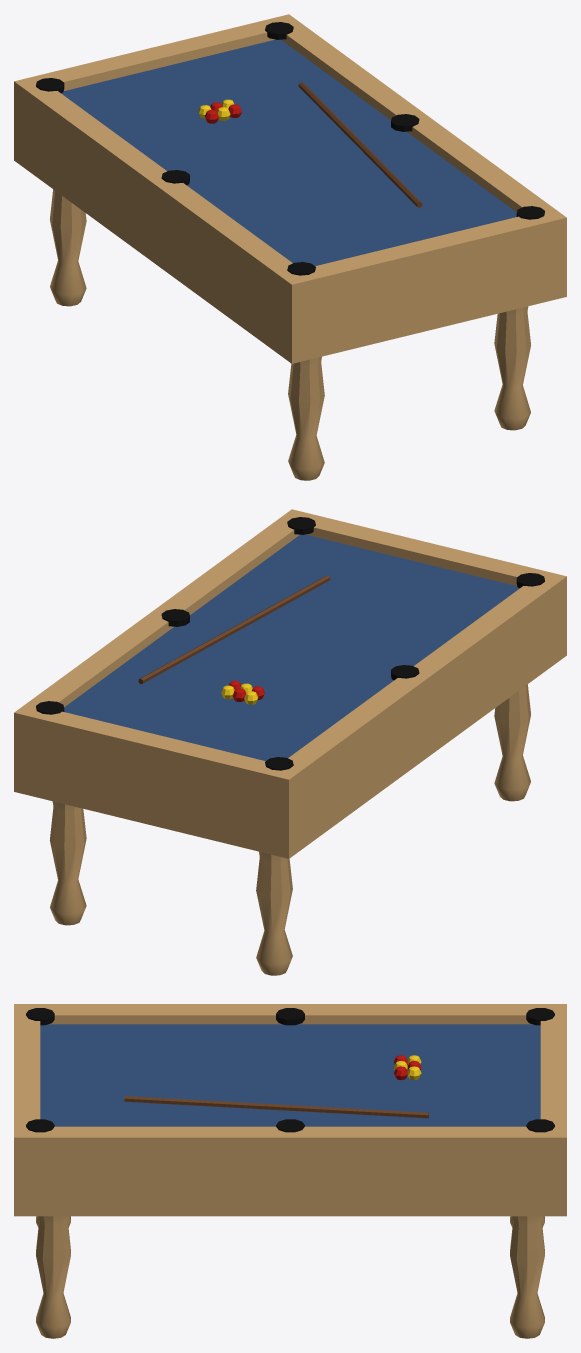
File: hospitality.pub.pool_table.glb
3 renders of one model, top to bottom at view 1: azimuth 30°, elevation 25°; view 2: azimuth 150°, elevation 25°; view 3: azimuth 270°, elevation 25°, orthographic.
Parts seen in each view (by area): view 1: main__glulam, main__fabric_blue, main__plastic_black, main__hardwood; view 2: main__glulam, main__fabric_blue, main__plastic_black, main__hardwood; view 3: main__glulam, main__fabric_blue, main__plastic_black, main__hardwood.
Boxes of the visible parts, x1,y1,x2,y2 form: main__glulam: (14,14,566,480); main__fabric_blue: (61,39,516,265); main__plastic_black: (36,22,544,275); main__hardwood: (298,82,422,207); main__glulam: (14,509,566,975); main__fabric_blue: (64,534,519,760); main__plastic_black: (36,517,544,770); main__hardwood: (138,575,330,684); main__glulam: (14,1004,566,1338); main__fabric_blue: (40,1024,540,1126); main__plastic_black: (26,1008,554,1132); main__hardwood: (124,1096,428,1118).
Bounding box in the file's own units: 1.2 × 0.908 × 2.1.
